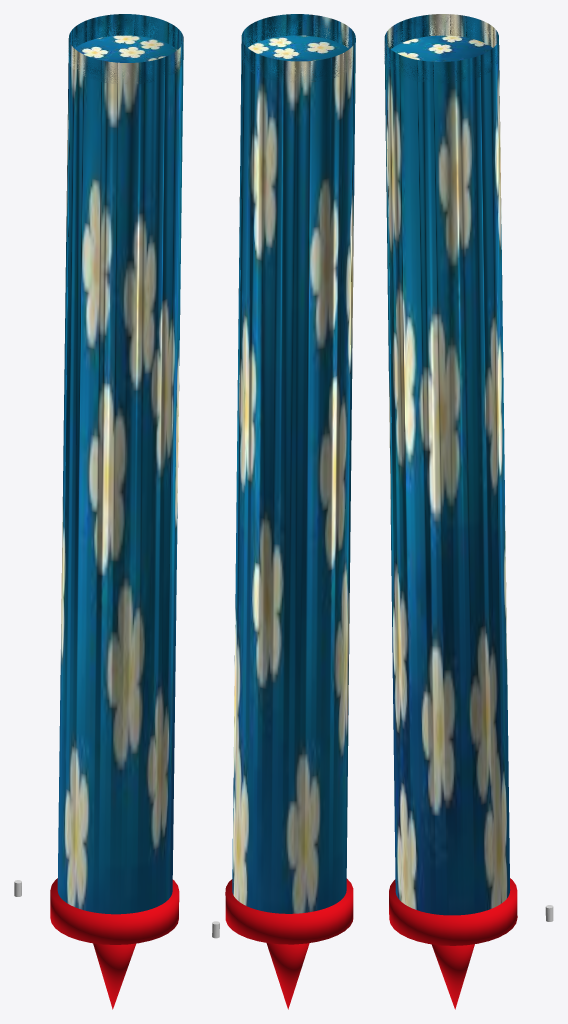
File: sparkler4.glb
The picture shows the model from 3 angles, left to right: view 1: azimuth 90°, elevation 25°; view 2: azimuth 150°, elevation 25°; view 3: azimuth 270°, elevation 25°; orthographic projection.
Visible parts, largest first — view 1: Candle_Body, Candle_Collar, Candle_Tip; view 2: Candle_Body, Candle_Collar, Candle_Tip; view 3: Candle_Body, Candle_Collar, Candle_Tip.
Boxes of the visible parts, left/top/right/bottom form: Candle_Body: left=57, top=14, right=183, bottom=914; Candle_Collar: left=50, top=878, right=179, bottom=944; Candle_Tip: left=93, top=943, right=135, bottom=1009; Candle_Body: left=232, top=14, right=355, bottom=913; Candle_Collar: left=225, top=878, right=353, bottom=944; Candle_Tip: left=266, top=943, right=309, bottom=1009; Candle_Body: left=384, top=14, right=510, bottom=915; Candle_Collar: left=389, top=878, right=517, bottom=945; Candle_Tip: left=431, top=944, right=474, bottom=1009.
Bounding box in the file's own units: 0.1068 × 0.8899 × 0.1404.
3 materials, 1 textured.
